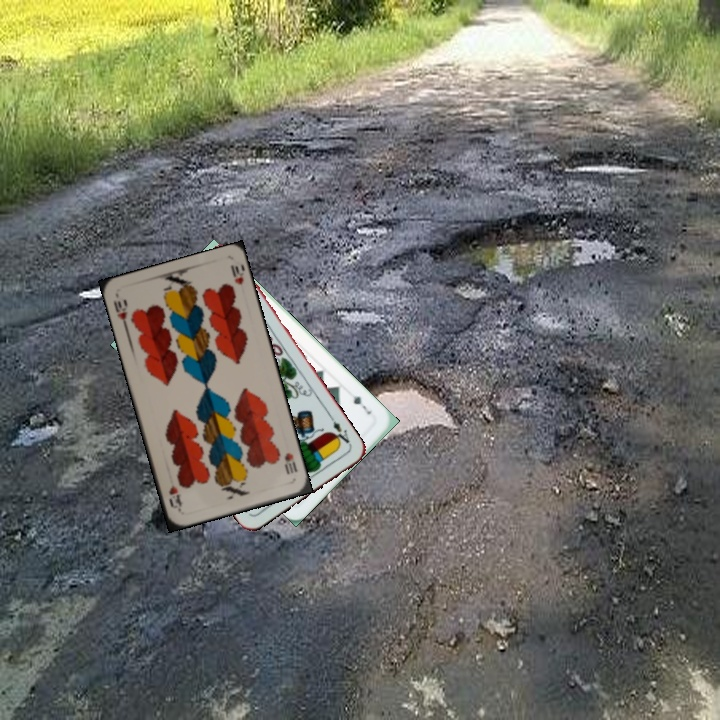EA: (326, 413, 354, 449)
G7: (349, 391, 374, 417)
H10: (109, 295, 130, 331), (280, 449, 300, 477)
